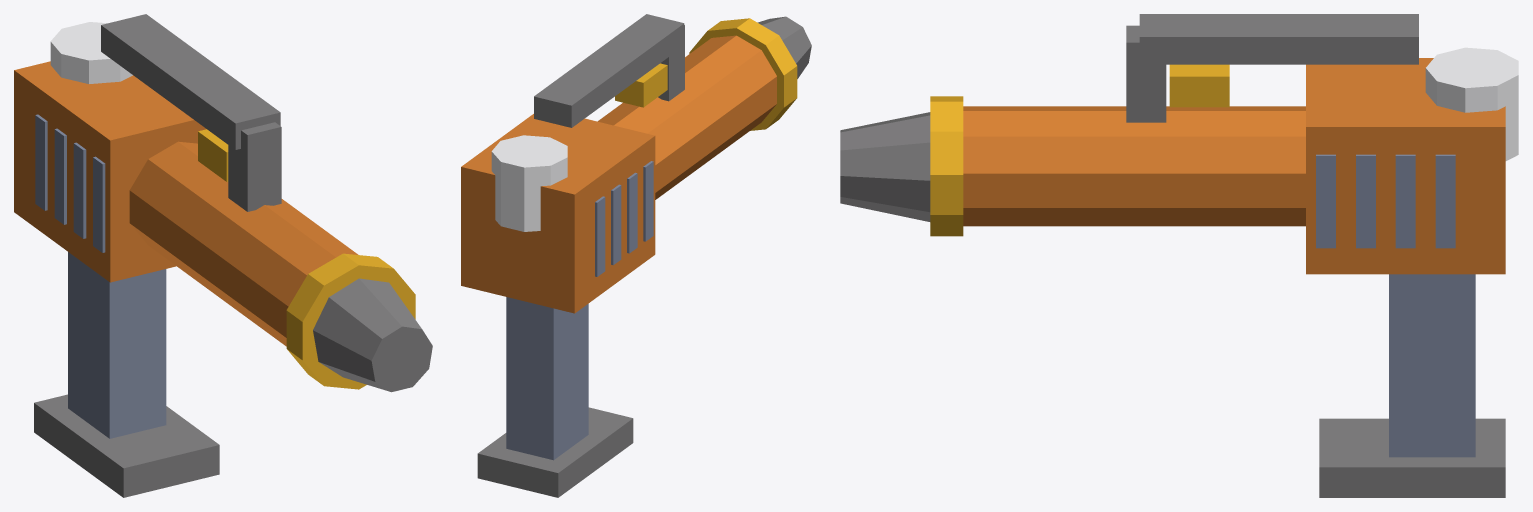
File: leaf_blower.glb
The picture shows the model from 3 angles, left to right: view 1: azimuth 30°, elevation 25°; view 2: azimuth 150°, elevation 25°; view 3: azimuth 270°, elevation 25°; orthographic projection. The views are drawn at different scales.
Parts seen in each view (by area): view 1: leaf_blower; view 2: leaf_blower; view 3: leaf_blower.
Part boxes in pixels (box(x1,y1,x2,y2)): leaf_blower: box(14, 14, 432, 497); leaf_blower: box(461, 14, 811, 497); leaf_blower: box(840, 14, 1518, 497).
Size of the model in its own units: 0.25 by 0.7291 by 1.
